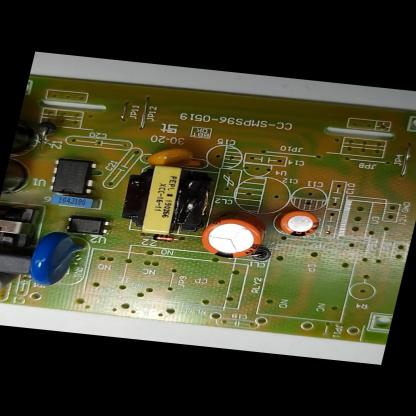Cap1: (197, 216, 269, 261)
Cap2: (276, 208, 321, 238)
Cap3: (1, 153, 34, 200)
Cap4: (10, 112, 43, 157)
MOSFET: (46, 155, 100, 196)
Mov: (25, 230, 86, 288)
Resistor: (0, 270, 25, 298)
Transformer: (116, 162, 216, 238), (0, 203, 40, 250)
